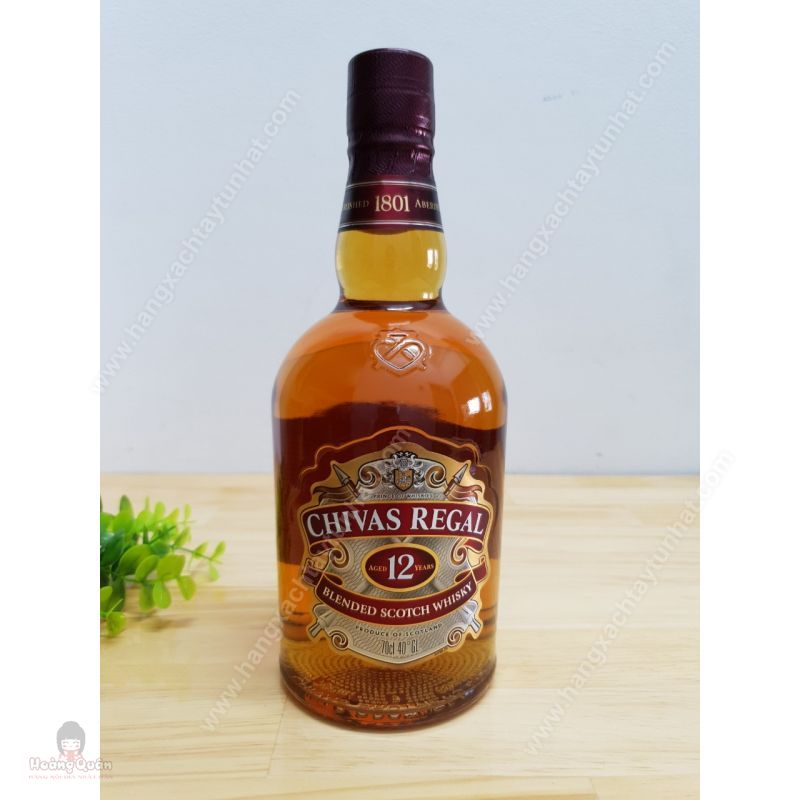Chivas Regal: (259, 38, 520, 743)
